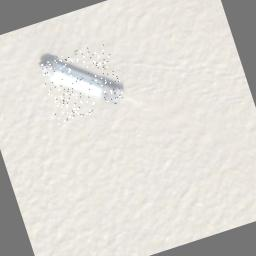boat: (38, 40, 128, 124)
